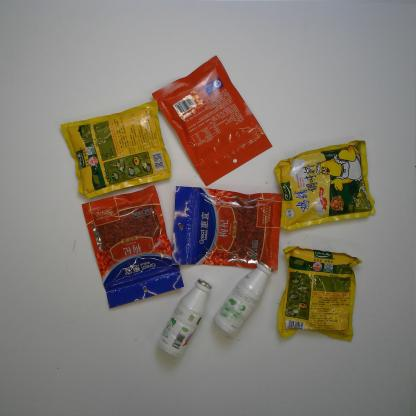Dried Fruit: (151, 54, 274, 188), (81, 184, 185, 310), (170, 185, 284, 271)
Milk: (212, 259, 274, 337), (156, 277, 214, 359)
Seasoner: (58, 100, 173, 200), (274, 139, 377, 232), (276, 245, 364, 344)
